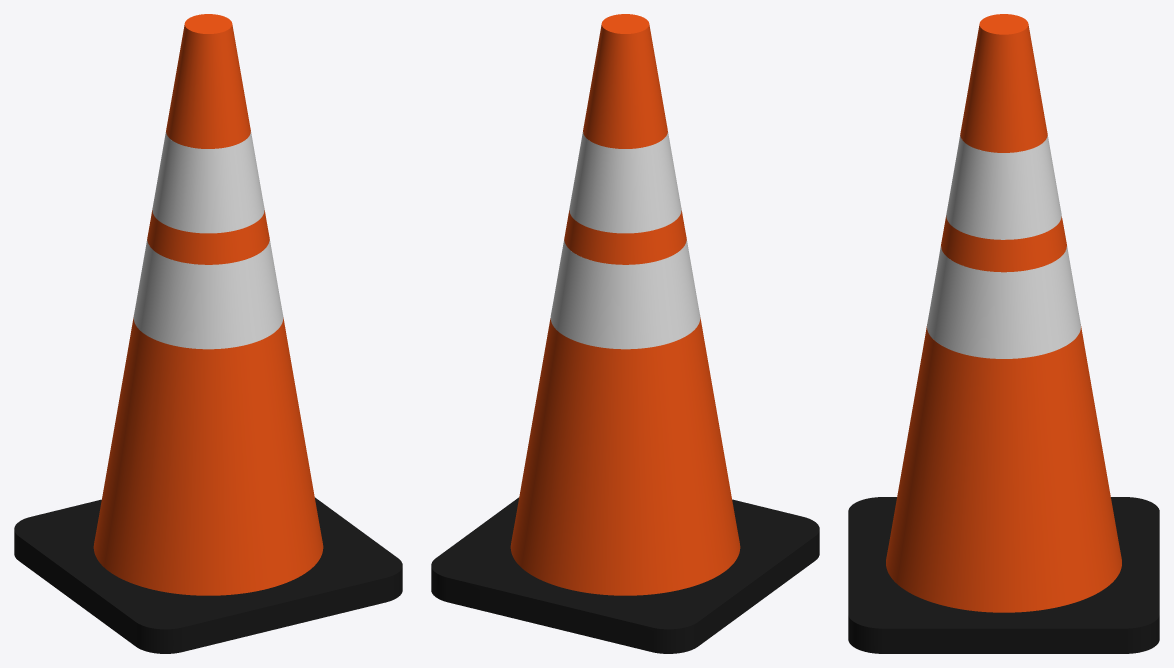
Rendered from Traffic_Cone_28in.glb.
3 views of the same model, side by side, from view 1: azimuth 30°, elevation 25°; view 2: azimuth 150°, elevation 25°; view 3: azimuth 270°, elevation 25° (orthographic). The views are drawn at different scales.
Parts seen in each view (by area): view 1: cone_4_fd0e94, base_25abe2, cone_3_077b77; view 2: cone_4_fd0e94, base_25abe2, cone_3_077b77; view 3: cone_4_fd0e94, base_25abe2, cone_3_077b77.
Boxes of the visible parts, bbox=[...] form: cone_4_fd0e94: bbox=[93, 14, 323, 595]; base_25abe2: bbox=[14, 497, 402, 653]; cone_3_077b77: bbox=[133, 131, 283, 349]; cone_4_fd0e94: bbox=[510, 14, 740, 595]; base_25abe2: bbox=[431, 497, 819, 653]; cone_3_077b77: bbox=[550, 130, 700, 349]; cone_4_fd0e94: bbox=[886, 14, 1121, 612]; base_25abe2: bbox=[848, 497, 1159, 653]; cone_3_077b77: bbox=[927, 135, 1080, 358].
Bounding box in the file's own units: 7.12 × 14.22 × 7.12.
